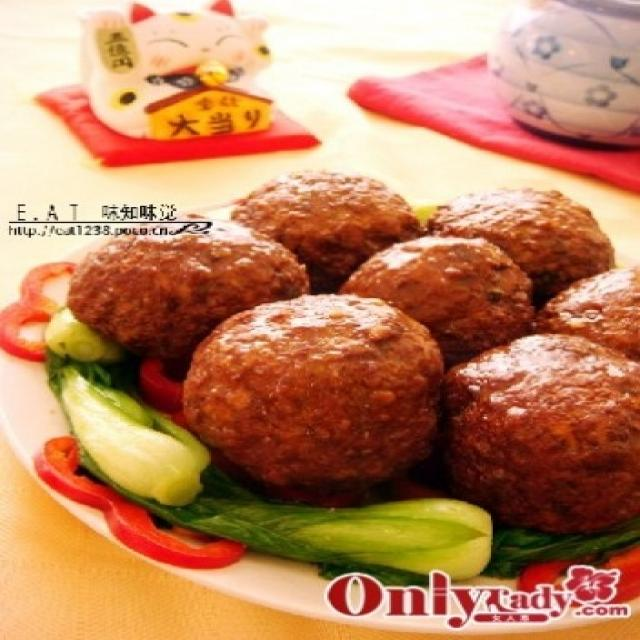Meatball: (156, 293, 458, 493), (434, 328, 640, 527), (55, 202, 312, 356), (231, 154, 425, 282), (409, 171, 616, 279)
